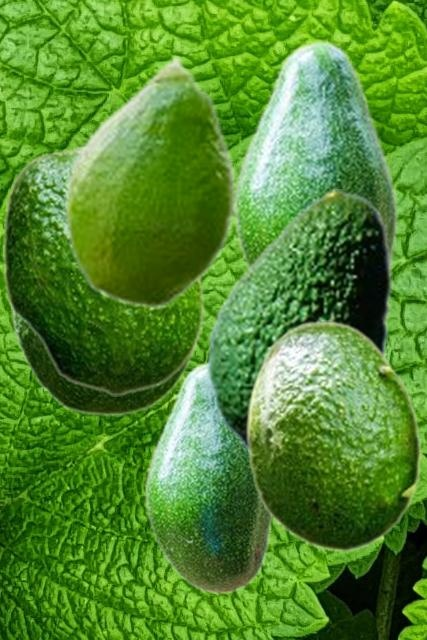avocado: (1, 144, 203, 395), (206, 189, 391, 455), (63, 53, 236, 308), (244, 320, 421, 551), (233, 39, 397, 286), (143, 360, 273, 594), (11, 312, 199, 415)
